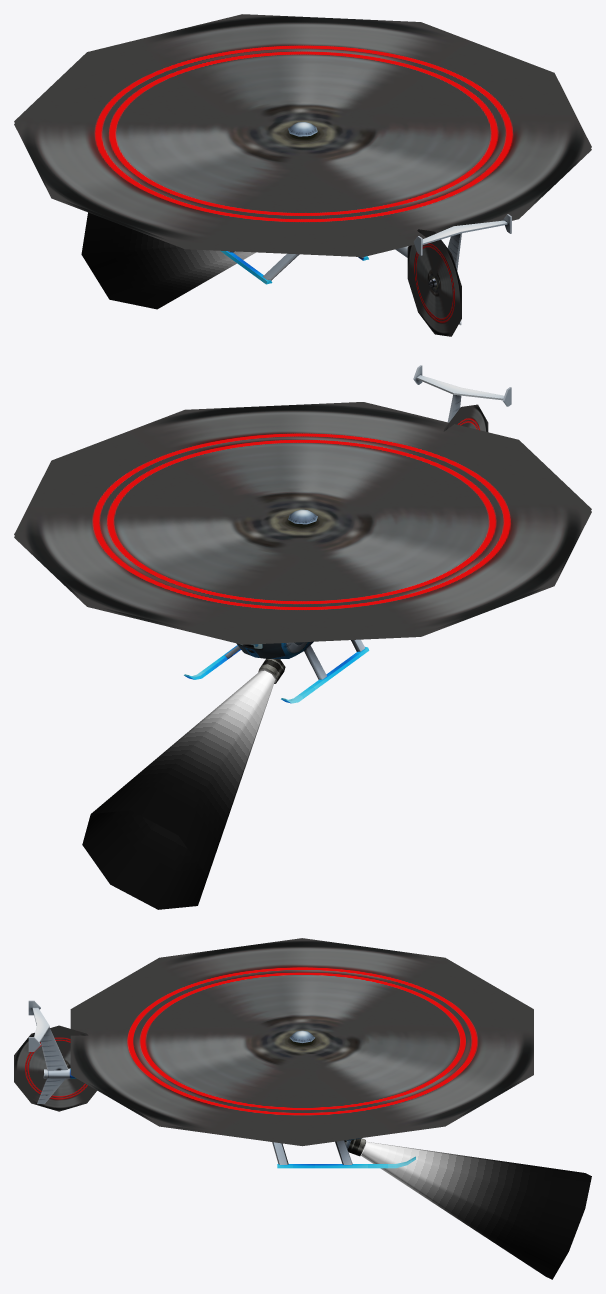
File: helicopter.fbx
The picture shows the model from 3 angles, top to bottom: view 1: azimuth 30°, elevation 25°; view 2: azimuth 150°, elevation 25°; view 3: azimuth 270°, elevation 25°; orthographic projection. The views are drawn at different scales.
Visible parts, largest first — view 1: propellers, spot_light, copter; view 2: propellers, spot_light, copter; view 3: propellers, spot_light, copter.
Part boxes in pixels (x1=…): propellers: x1=14, y1=14, x2=591, y2=336; spot_light: x1=81, y1=212, x2=255, y2=309; copter: x1=220, y1=122, x2=511, y2=325; propellers: x1=14, y1=402, x2=591, y2=644; spot_light: x1=82, y1=670, x2=275, y2=909; copter: x1=184, y1=365, x2=511, y2=703; propellers: x1=14, y1=938, x2=533, y2=1146; spot_light: x1=361, y1=1141, x2=591, y2=1279; copter: x1=28, y1=1000, x2=415, y2=1168.
Bounding box in the file's own units: 1131 × 660 × 1342.
